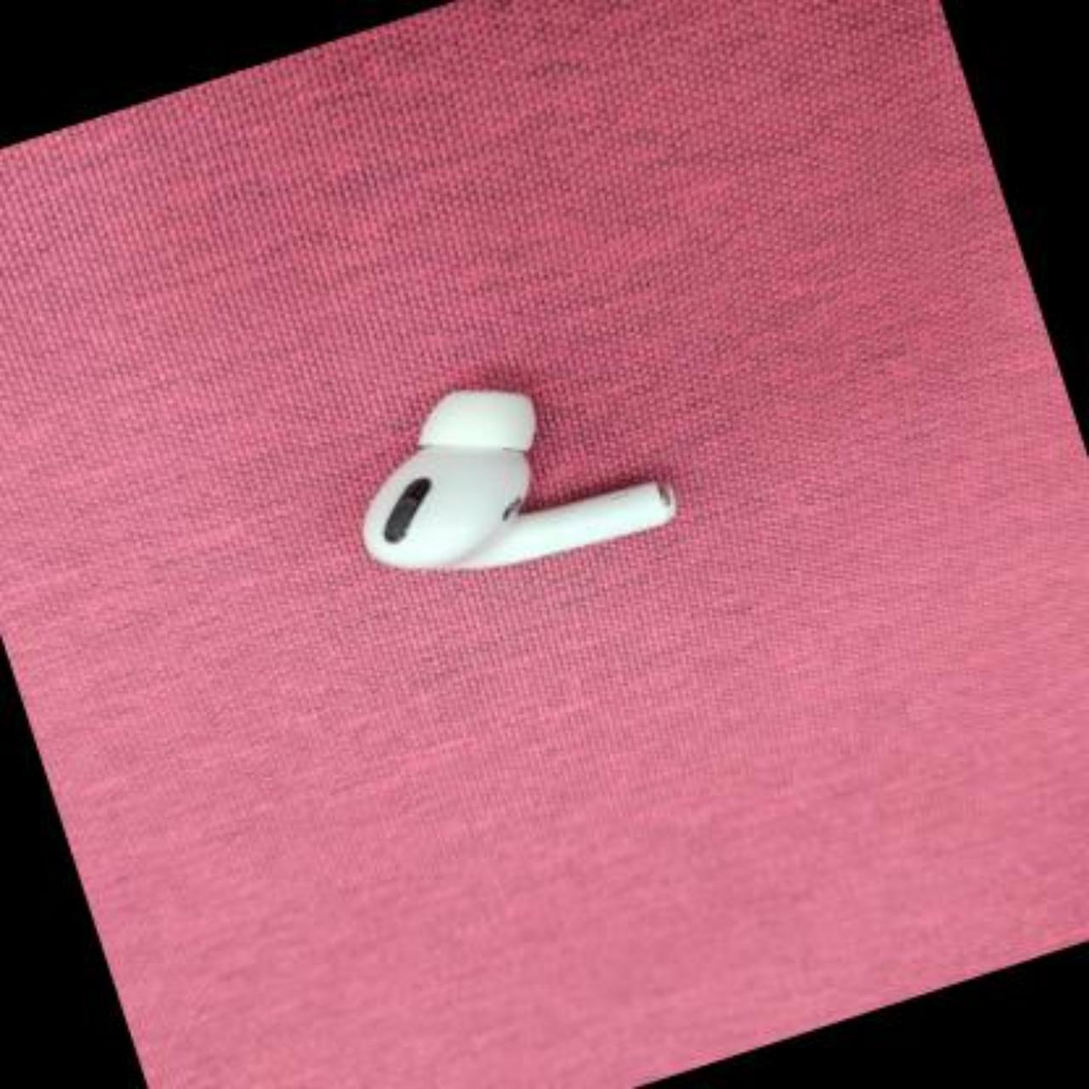Airpods_Units: (300, 299, 729, 645)
